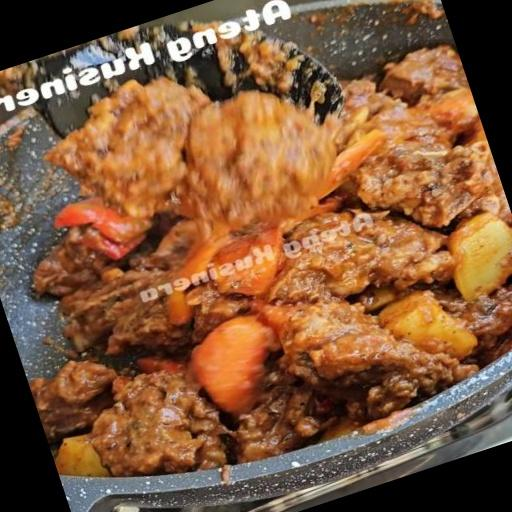pork caldereta: (28, 49, 511, 473)
